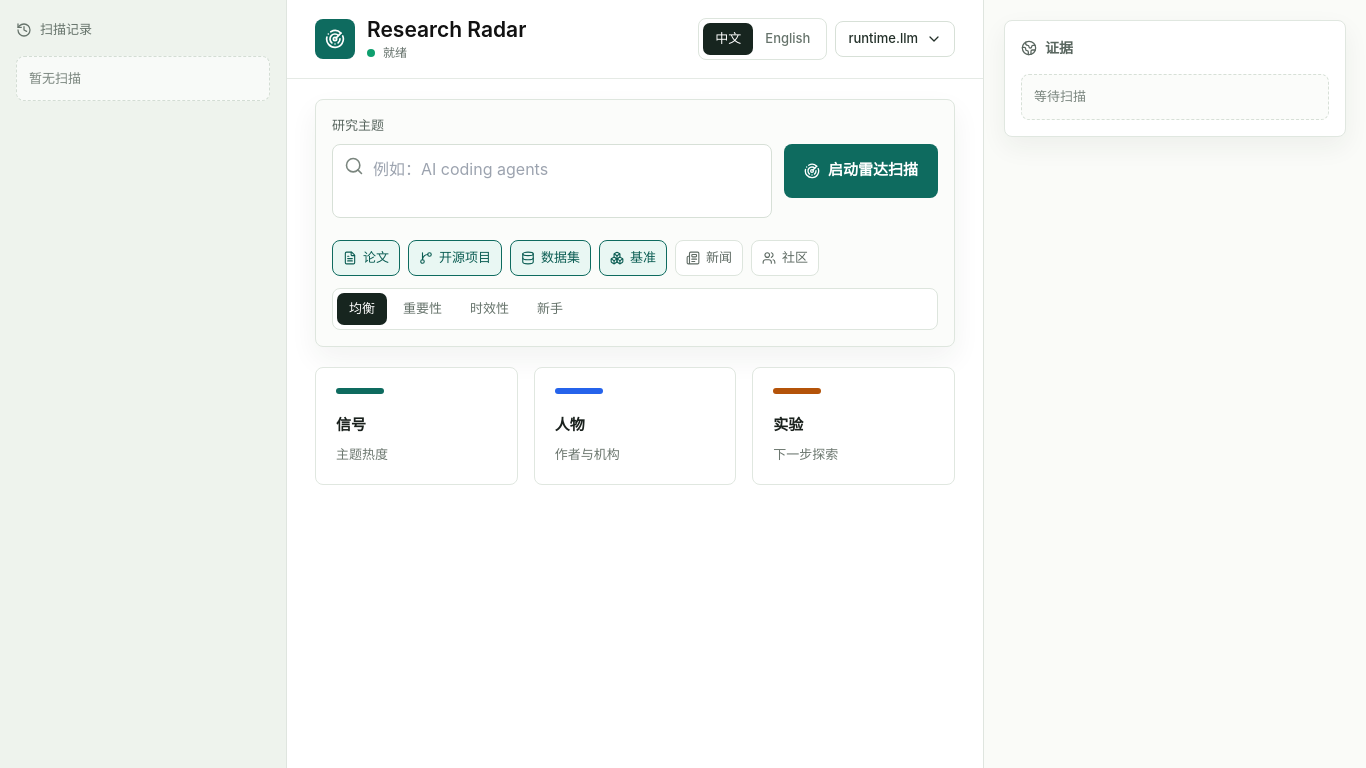
Test case: Research Radar POC page › forwards the English report-language payload when English is selected
This screenshot has width=1366, height=768.
Click the button "English". click: x=788, y=39
box: left=753, top=23, right=822, bottom=55
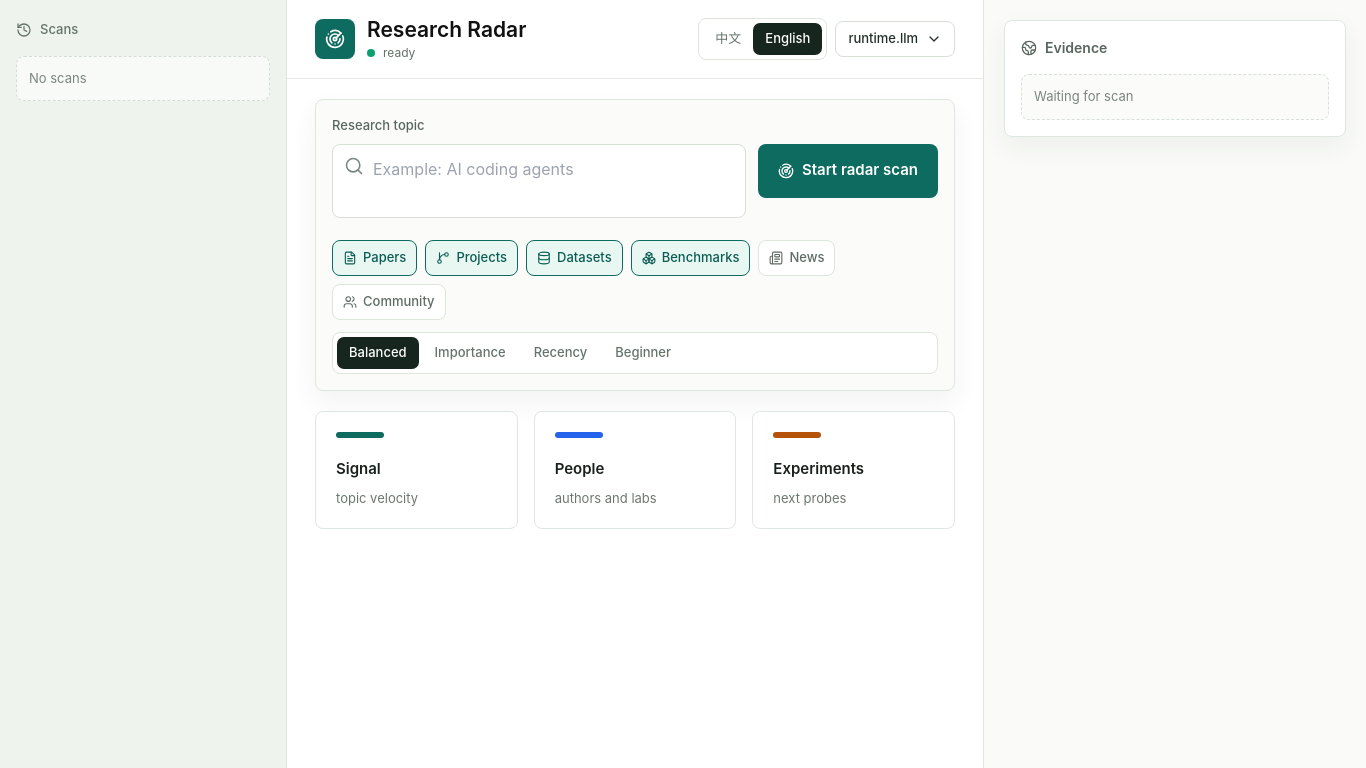
Type "AI coding agents" into the text box labelled "Research topic". click: x=539, y=180
box: left=332, top=144, right=746, bottom=218
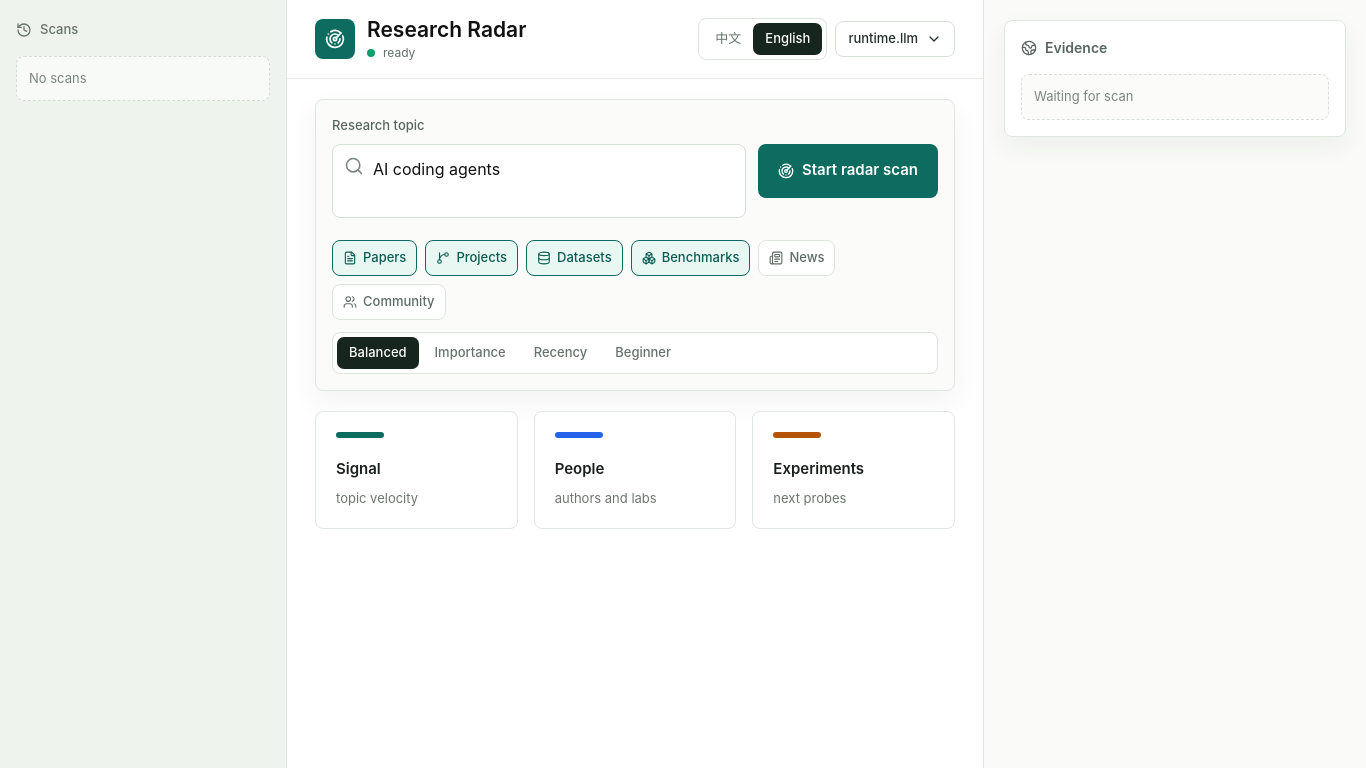
Click the button "Start radar scan". click: x=848, y=170
box: left=758, top=144, right=938, bottom=198
(page scrolled)
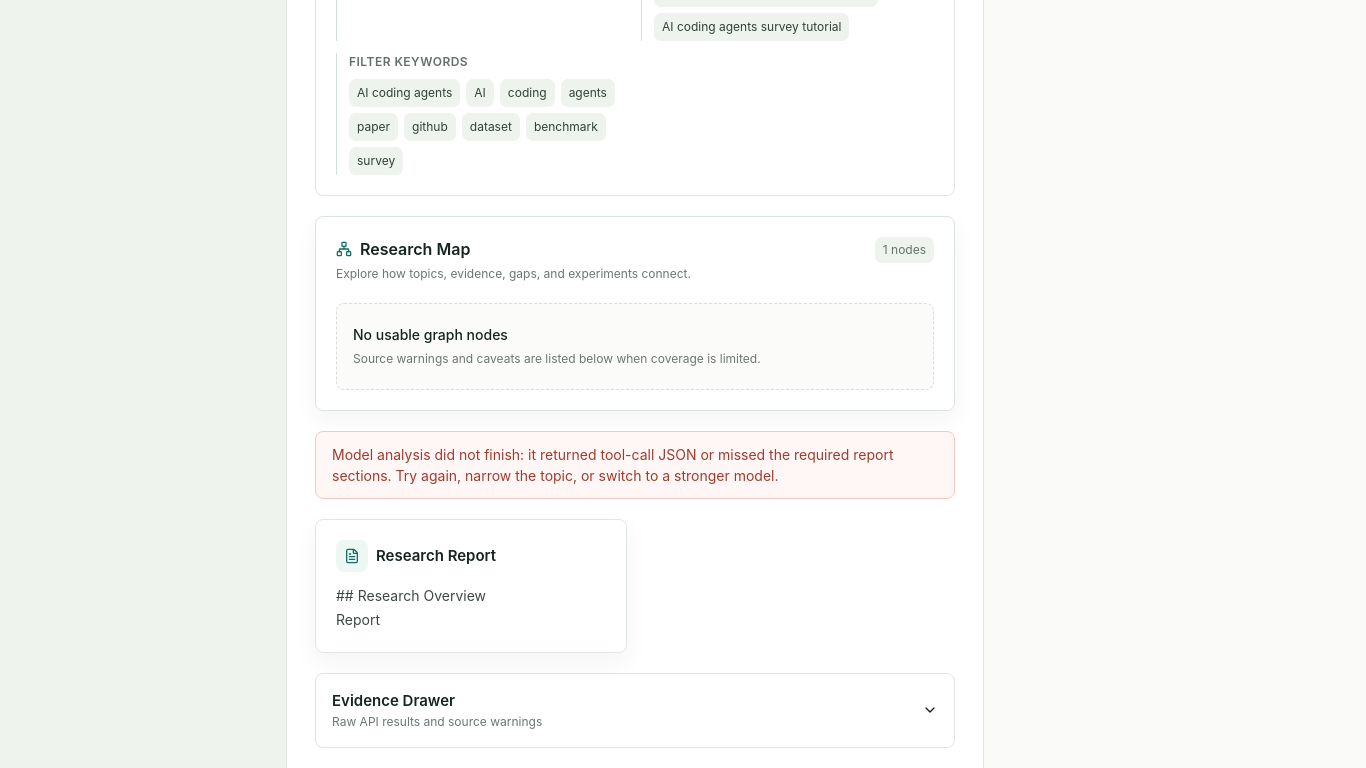
Now the heading "Research Report" is shown, box left=376, top=545, right=496, bottom=567
